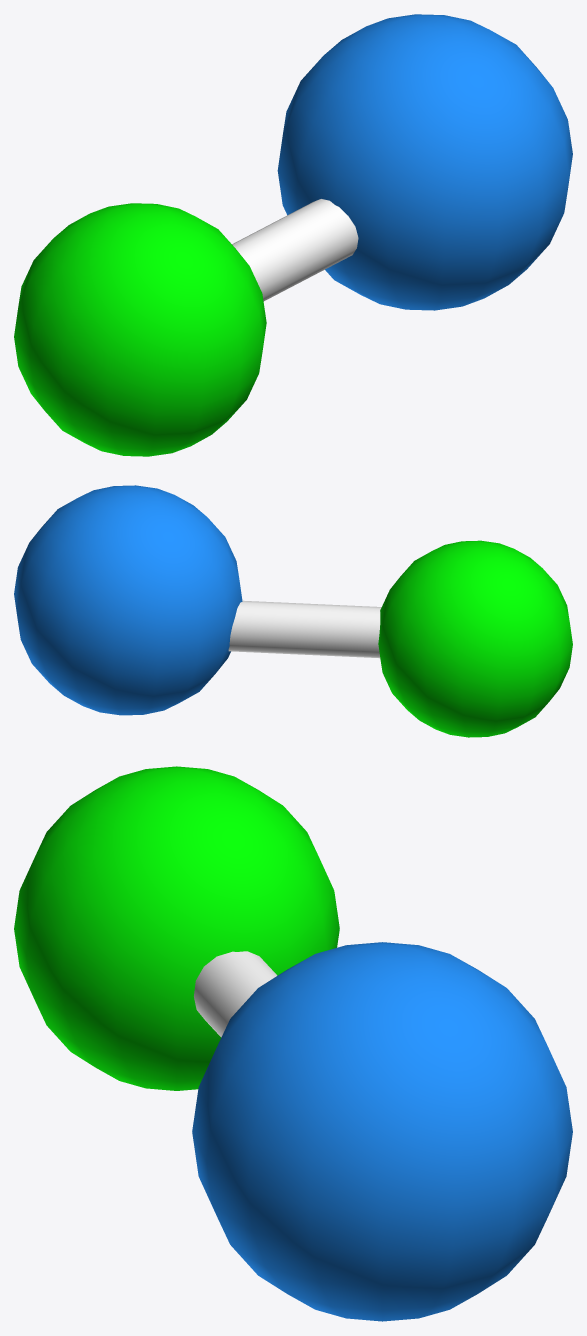
The model's file is Acido Clorhidrico.fbx.
3 renders of one model, top to bottom at view 1: azimuth 30°, elevation 25°; view 2: azimuth 150°, elevation 25°; view 3: azimuth 270°, elevation 25°, orthographic. The views are drawn at different scales.
Visible parts, largest first — view 1: sphere, sphere1, cylinder; view 2: sphere, sphere1, cylinder; view 3: sphere, sphere1, cylinder.
Part boxes in pixels (x1=…): sphere: x1=277, y1=14, x2=572, y2=310; sphere1: x1=14, y1=203, x2=266, y2=456; cylinder: x1=232, y1=199, x2=358, y2=301; sphere: x1=14, y1=485, x2=242, y2=715; sphere1: x1=378, y1=540, x2=572, y2=737; cylinder: x1=228, y1=600, x2=381, y2=658; sphere: x1=192, y1=942, x2=572, y2=1321; sphere1: x1=14, y1=766, x2=339, y2=1090; cylinder: x1=194, y1=951, x2=277, y2=1037.
Bounding box in the file's own units: 70.38 × 30.02 × 44.06.
